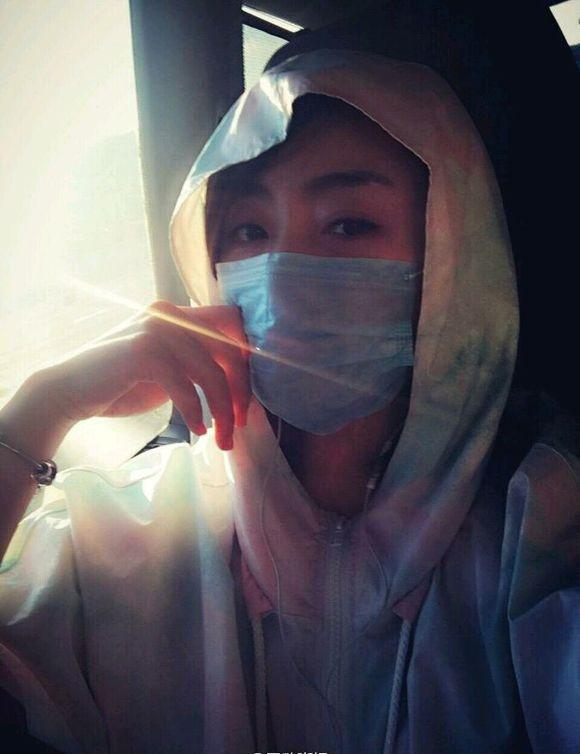OK: (198, 177, 447, 426)
